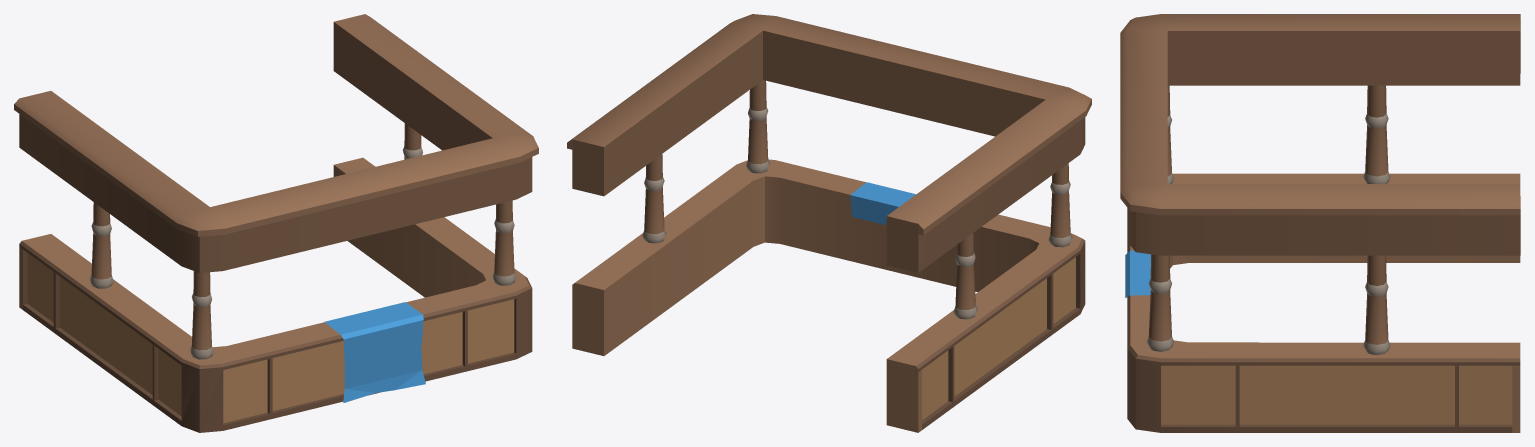
The model's file is Counter.fbx.
The picture shows the model from 3 angles, left to right: view 1: azimuth 30°, elevation 25°; view 2: azimuth 150°, elevation 25°; view 3: azimuth 270°, elevation 25°; orthographic projection. The views are drawn at different scales.
Parts seen in each view (by area): view 1: Box131; view 2: Box131; view 3: Box131.
Boxes of the visible parts, x1=… form: Box131: x1=14, y1=14, x2=538, y2=432; Box131: x1=567, y1=14, x2=1091, y2=432; Box131: x1=1120, y1=14, x2=1520, y2=432.
Bounding box in the file's own units: 676 × 382 × 593.
2 materials, 2 textured.
